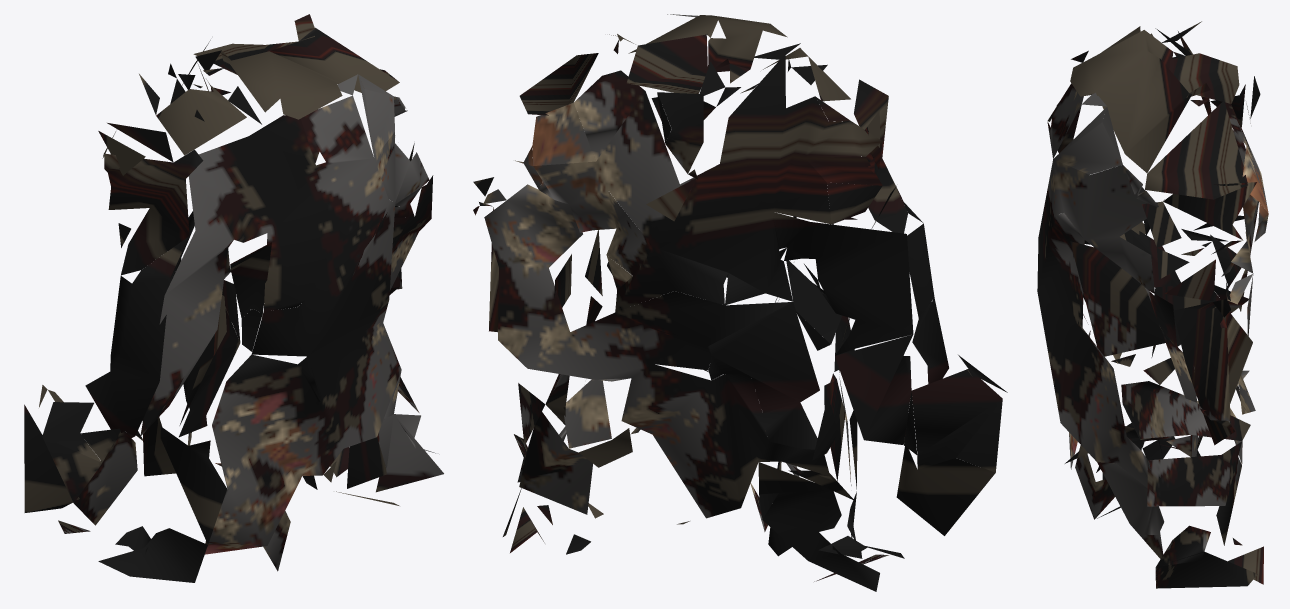
3 views of the same model, side by side, from view 1: azimuth 30°, elevation 25°; view 2: azimuth 150°, elevation 25°; view 3: azimuth 270°, elevation 25° (orthographic). The views are drawn at different scales.
Parts seen in each view (by area): view 1: body.002; view 2: body.002; view 3: body.002.
Boxes of the visible parts, x1,y1,x2,y2 form: body.002: [24, 14, 443, 582]; body.002: [473, 14, 1007, 591]; body.002: [1037, 21, 1268, 588].
Size of the model in its own units: 1.89 by 2 by 0.8939.
Materials: 1 (1 with a texture image).
